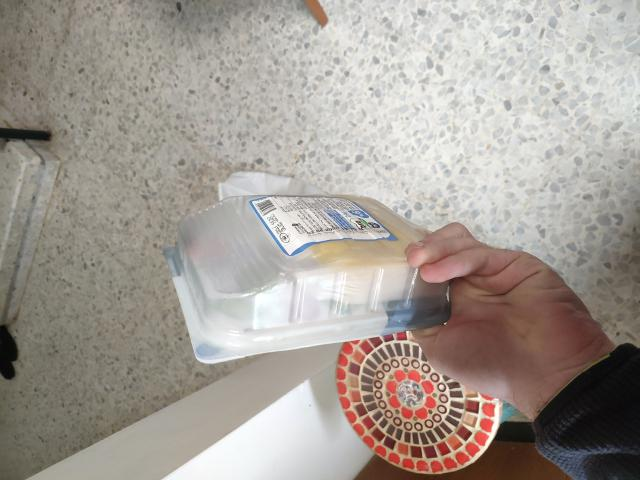cheese: (161, 192, 442, 349)
